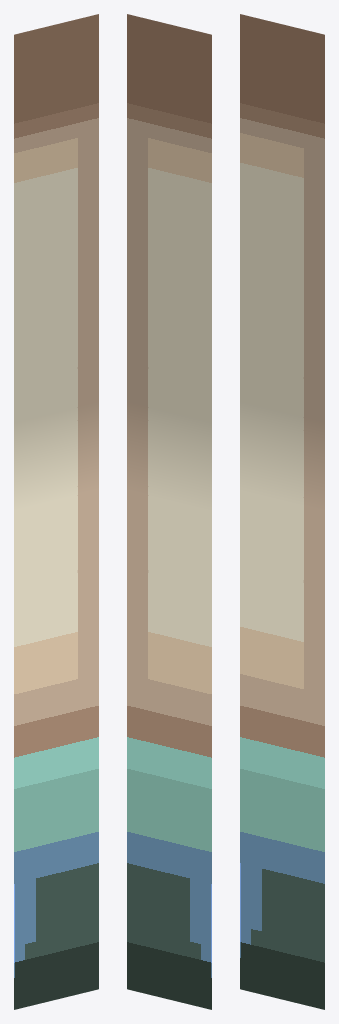
The picture shows the model from 3 angles, left to right: view 1: azimuth 30°, elevation 25°; view 2: azimuth 150°, elevation 25°; view 3: azimuth 330°, elevation 25°; orthographic projection.
Size of the model in its own units: 0.5 by 5.5 by 0.
1 material, 1 textured.
